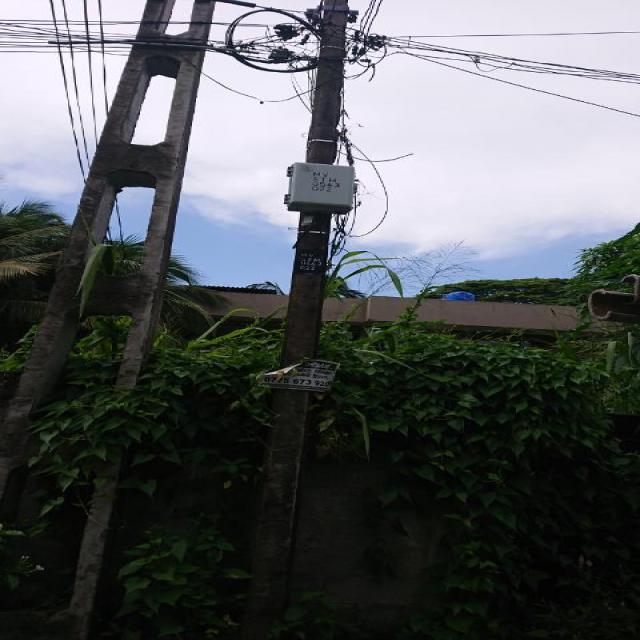light_pole: (240, 0, 364, 640)
